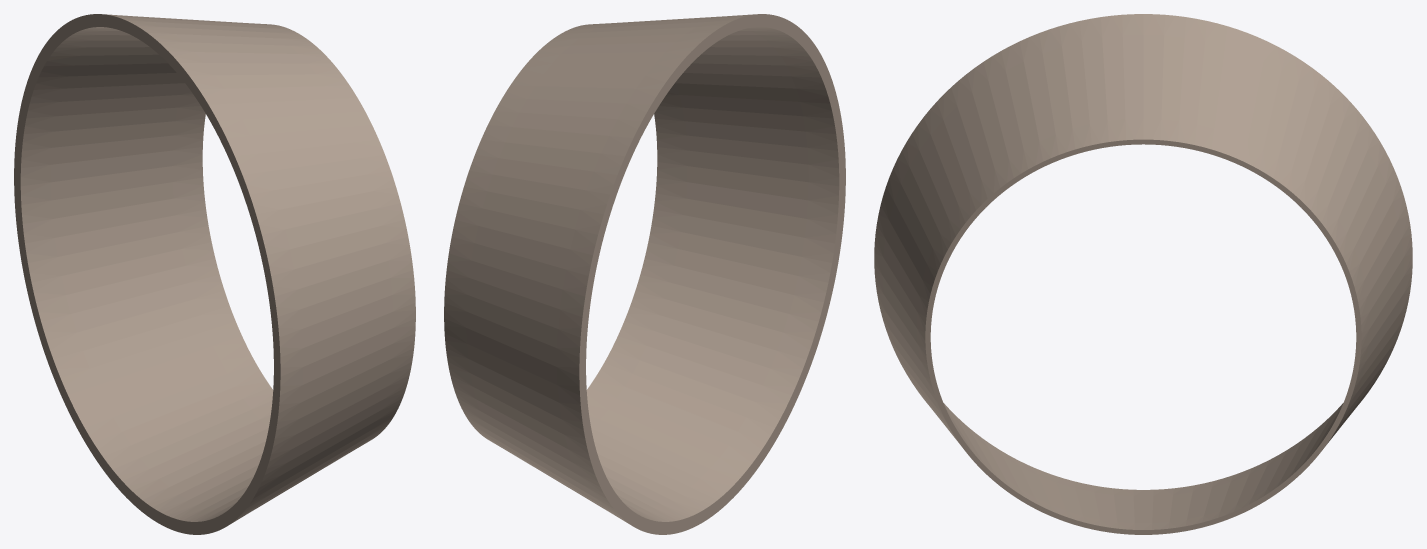
Rendered from p-exhaust-nozzle.glb.
3 renders of one model, left to right at view 1: azimuth 30°, elevation 25°; view 2: azimuth 150°, elevation 25°; view 3: azimuth 270°, elevation 25°, orthographic.
Parts seen in each view (by area): view 1: core_nozzle; view 2: core_nozzle; view 3: core_nozzle.
Boxes of the visible parts, x1=… form: core_nozzle: x1=14, y1=14, x2=415, y2=534; core_nozzle: x1=444, y1=14, x2=845, y2=534; core_nozzle: x1=874, y1=14, x2=1412, y2=534.
Size of the model in its own units: 0.348 by 1 by 0.9998.
